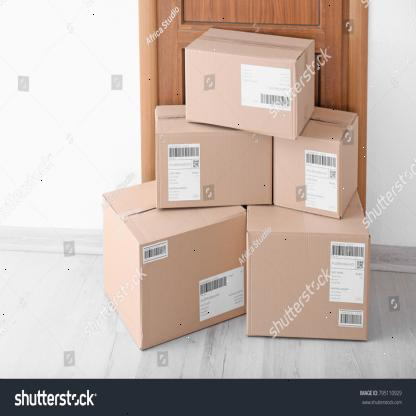box: (141, 210, 246, 351), (247, 228, 370, 341), (185, 46, 295, 141), (156, 124, 273, 208), (273, 134, 341, 218)
